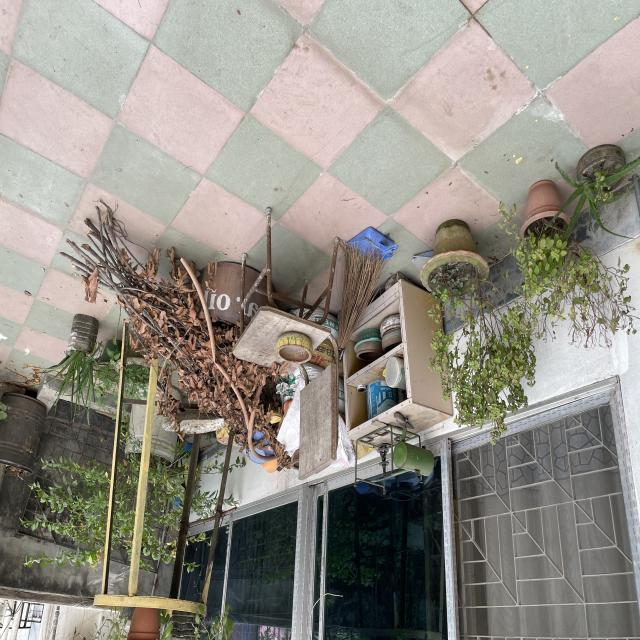Breeding Place: (423, 220, 488, 302), (518, 178, 560, 258), (578, 138, 630, 200), (353, 226, 395, 270), (277, 331, 317, 366), (128, 604, 162, 640), (172, 614, 198, 640)
